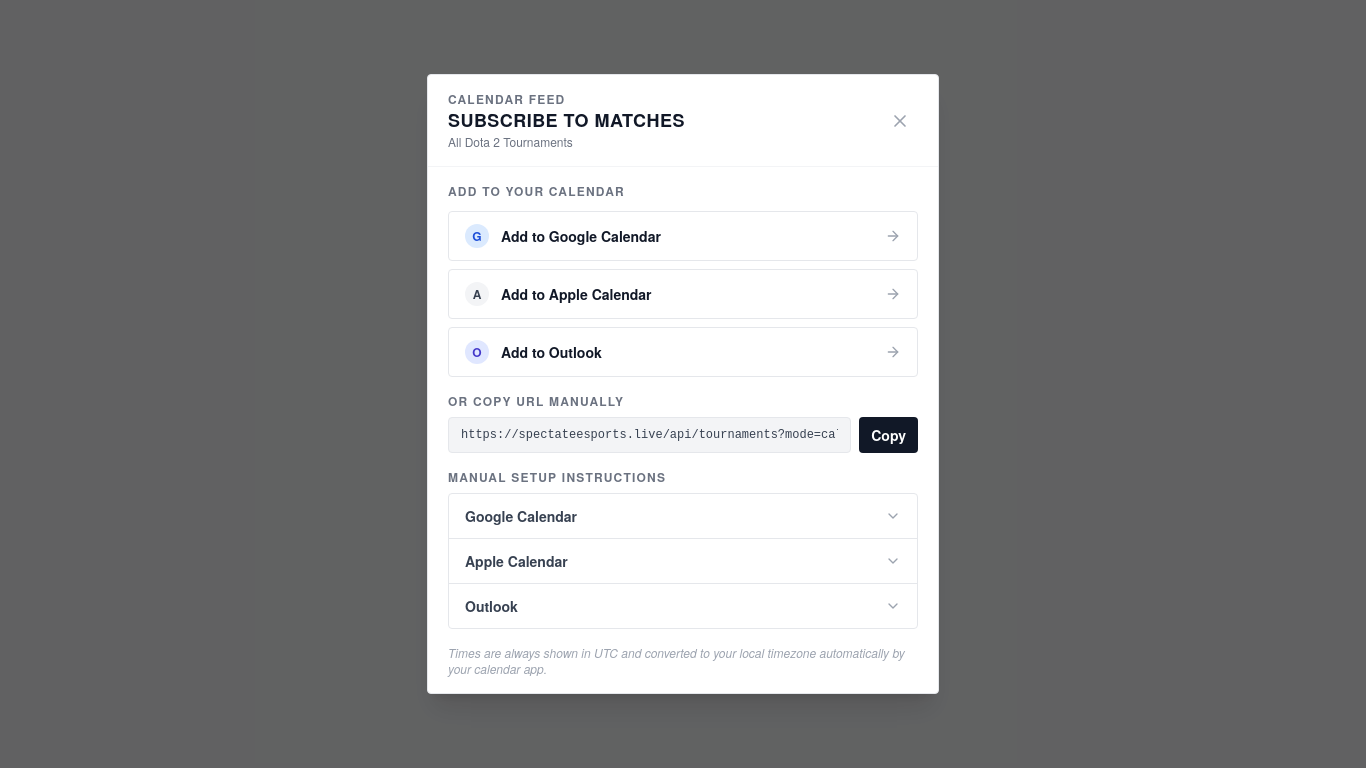
Test: CalendarSubscribeModal — copy button › shows "Copied!" after clicking Copy
Click the button "Copy".
click(889, 435)  # box [859,417,918,453]
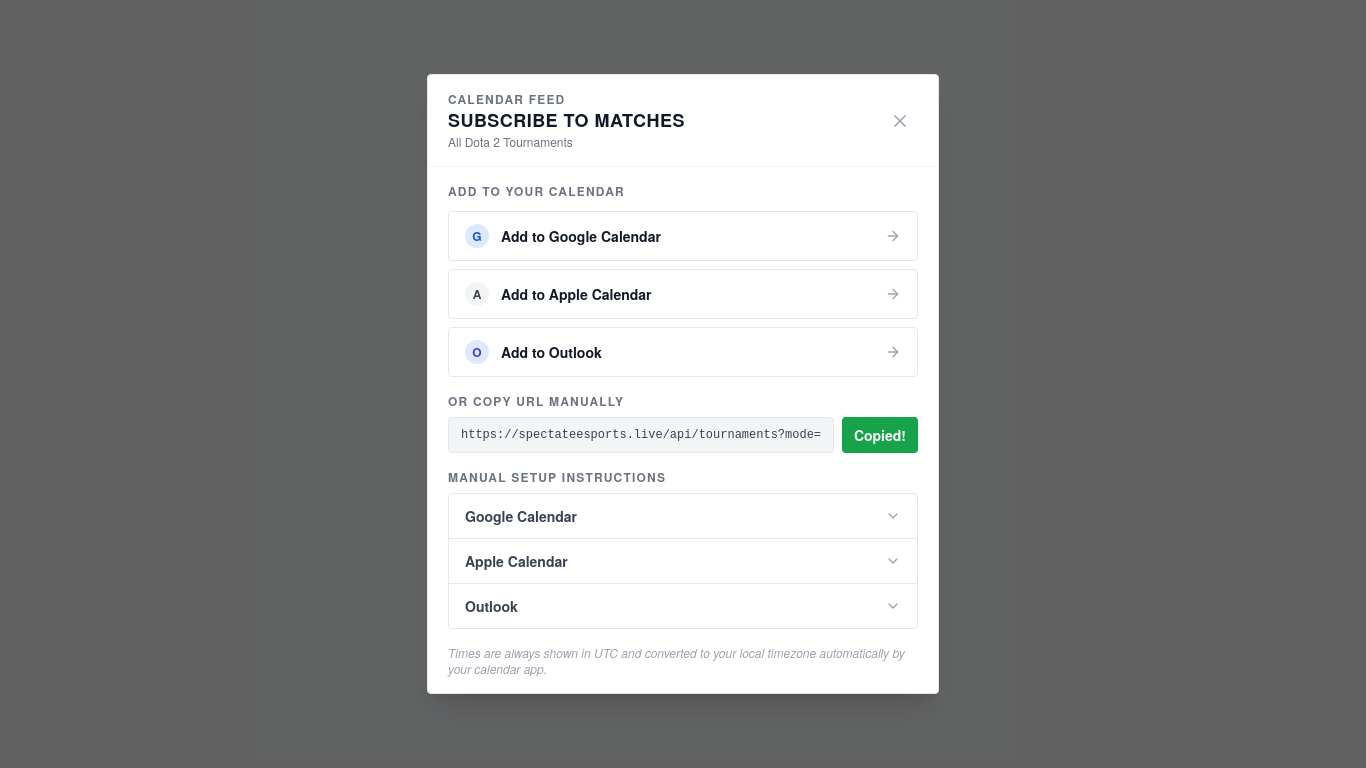
Check: the button "Copied!" is shown, box [842,417,918,453]
